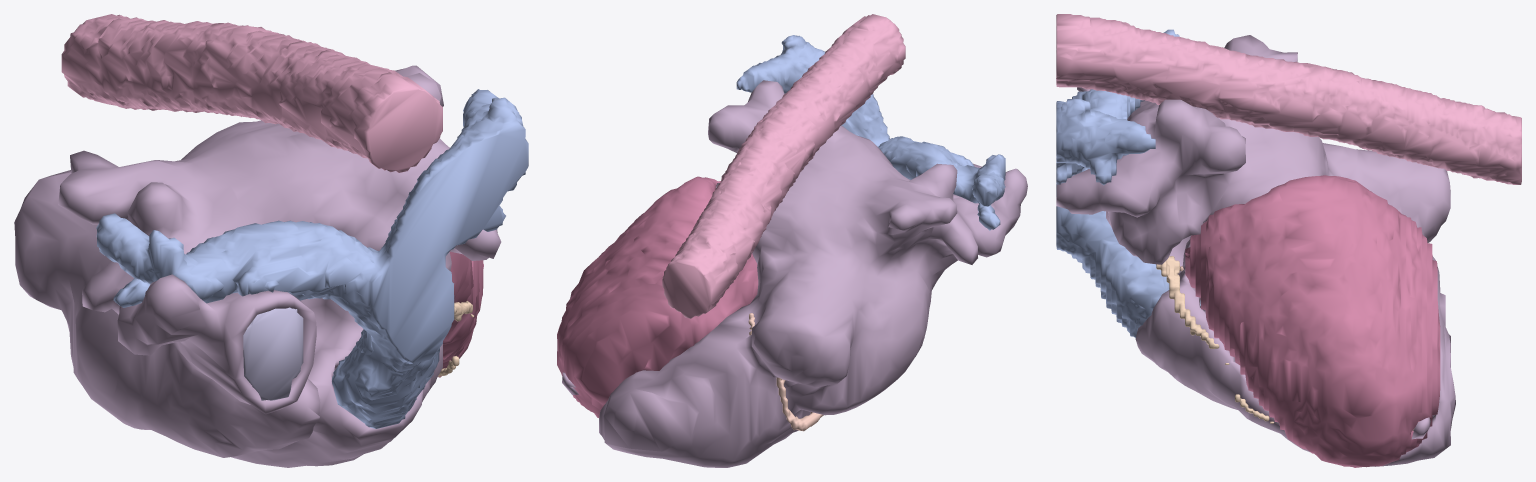
The picture shows the model from 3 angles, left to right: view 1: azimuth 30°, elevation 25°; view 2: azimuth 150°, elevation 25°; view 3: azimuth 270°, elevation 25°; orthographic projection. The views are drawn at different scales.
Visible parts, largest first — view 1: heart-wall, pulmonary-artery, aorta, right-atrium, myocardium; view 2: heart-wall, aorta, myocardium, pulmonary-artery, right-coronary-artery; view 3: myocardium, heart-wall, aorta, pulmonary-artery, left-coronary-artery.
Boxes of the visible parts, left/top/right/bottom form: heart-wall: left=14, top=65, right=501, bottom=467; pulmonary-artery: left=96, top=89, right=528, bottom=428; aorta: left=61, top=14, right=442, bottom=172; right-atrium: left=243, top=307, right=303, bottom=400; myocardium: left=438, top=251, right=483, bottom=377; heart-wall: left=562, top=80, right=1027, bottom=467; aorta: left=662, top=14, right=905, bottom=318; myocardium: left=557, top=176, right=758, bottom=417; pulmonary-artery: left=736, top=35, right=1005, bottom=230; right-coronary-artery: left=748, top=313, right=823, bottom=431; myocardium: left=1185, top=175, right=1440, bottom=467; heart-wall: left=1056, top=35, right=1455, bottom=466; aorta: left=1056, top=14, right=1521, bottom=184; pulmonary-artery: left=1056, top=29, right=1179, bottom=337; left-coronary-artery: left=1156, top=256, right=1274, bottom=423.
Bounding box in the file's own units: 138 × 132 × 142.
